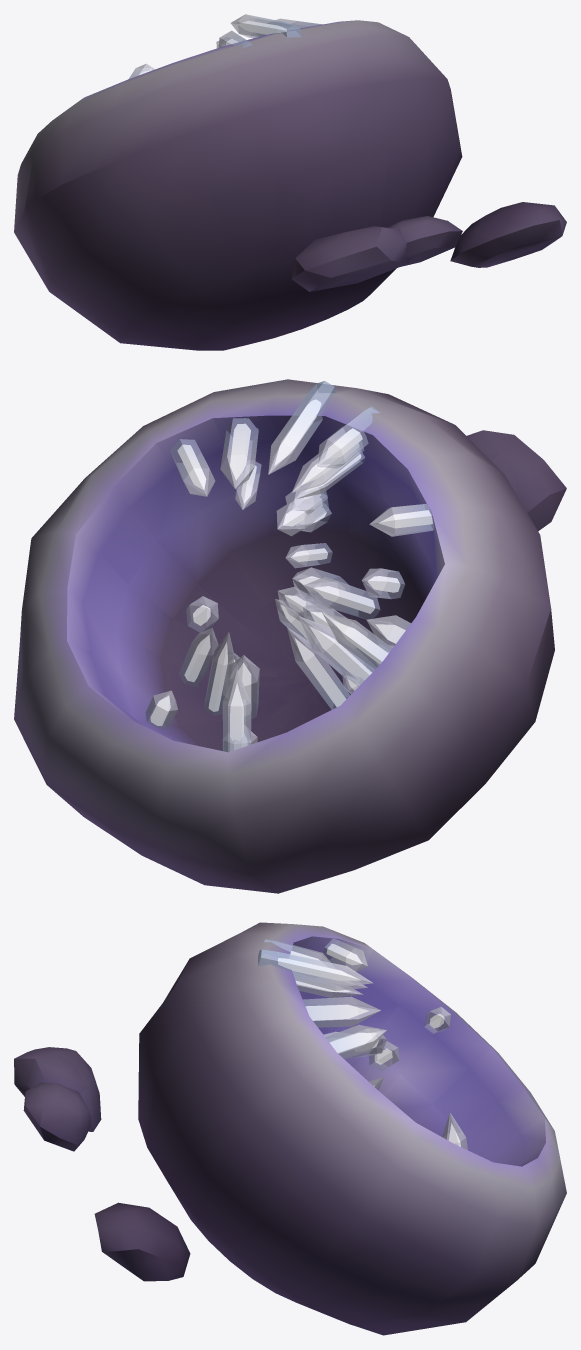
The model's file is glass_misc_geode_a.glb.
3 renders of one model, top to bottom at view 1: azimuth 30°, elevation 25°; view 2: azimuth 150°, elevation 25°; view 3: azimuth 270°, elevation 25°, orthographic. The views are drawn at different scales.
Visible parts, largest first — view 1: glass_misc_geode_a; view 2: glass_misc_geode_a; view 3: glass_misc_geode_a.
Boxes of the visible parts, bbox=[...] form: glass_misc_geode_a: bbox=[14, 14, 566, 350]; glass_misc_geode_a: bbox=[14, 379, 566, 893]; glass_misc_geode_a: bbox=[14, 922, 566, 1335].
Bounding box in the file's own units: 3.19 × 2.58 × 3.55.
